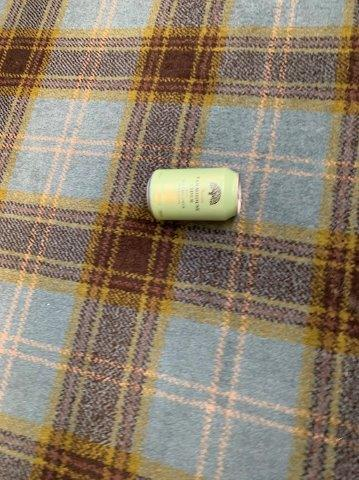kaleng: (148, 167, 240, 220)
